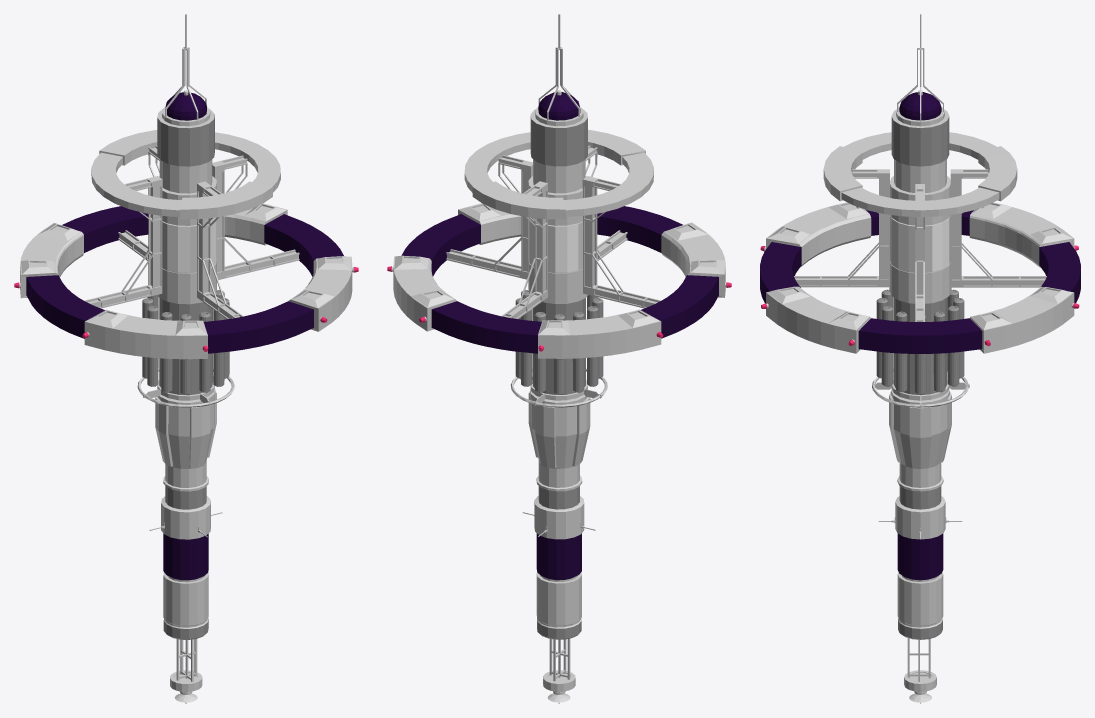
Rendered from station.glb.
3 renders of one model, left to right at view 1: azimuth 30°, elevation 25°; view 2: azimuth 150°, elevation 25°; view 3: azimuth 270°, elevation 25°, orthographic.
Visible parts, largest first — view 1: Cylinder; view 2: Cylinder; view 3: Cylinder.
Part boxes in pixels (bbox=[...]): Cylinder: bbox=[14, 14, 358, 703]; Cylinder: bbox=[387, 14, 731, 703]; Cylinder: bbox=[760, 14, 1080, 703].
Size of the model in its own units: 11.88 by 28.17 by 11.88.
